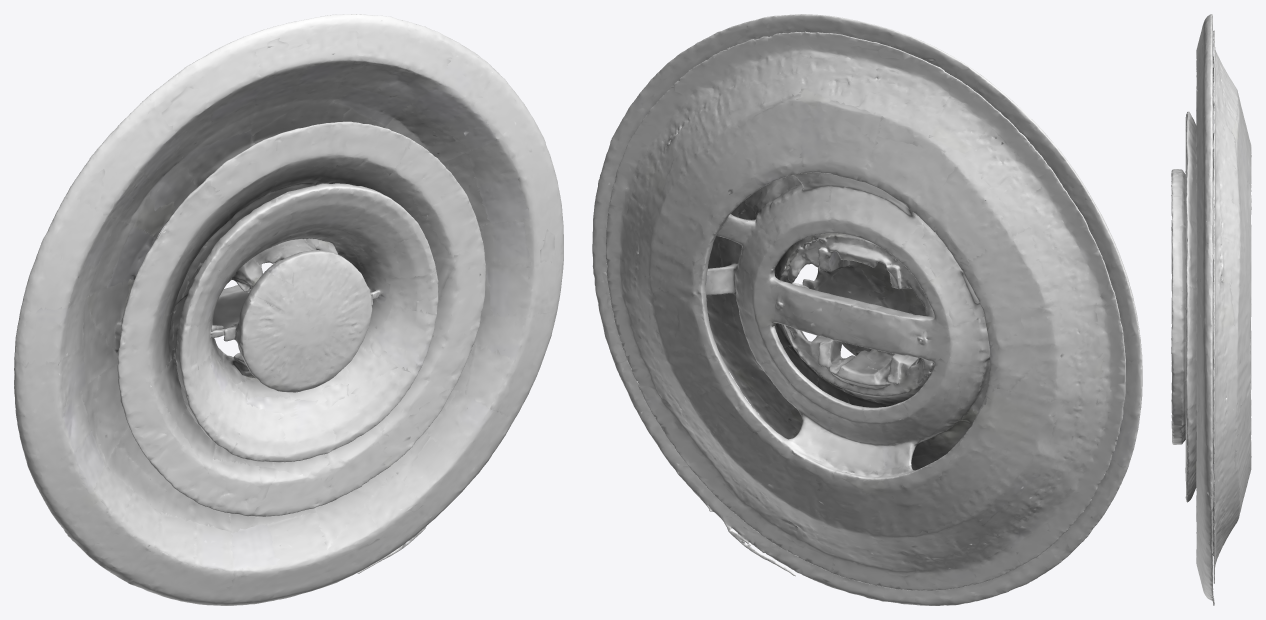
Rendered from ffu.glb.
3 views of the same model, side by side, from view 1: azimuth 30°, elevation 25°; view 2: azimuth 150°, elevation 25°; view 3: azimuth 270°, elevation 25° (orthographic). The views are drawn at different scales.
Size of the model in its own units: 1.9 by 1.9 by 0.2614.
Materials: 1 (1 with a texture image).
